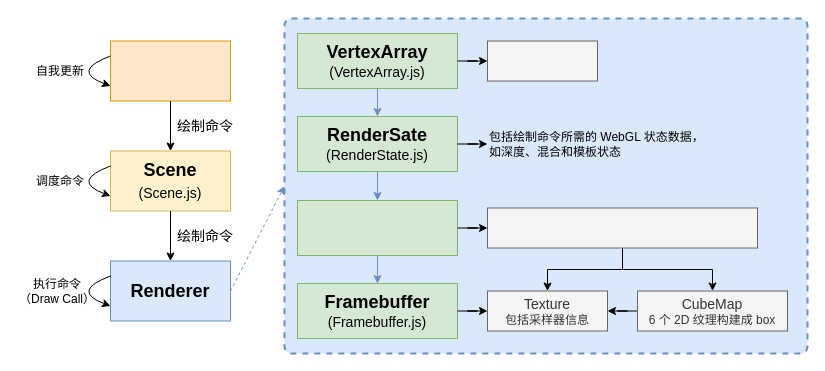
The diagram is 825 pixels wide and 371 high, and some of its shapes have lost their labels. Here are the shapes that lost their labels. From the top down, the centre of each, then its label:
At [170,70]: "Primitives".
At [542,60]: "Buffer 顶点或索引的缓存".
At [377,228]: "ShaderProgram (ShaderProgram.js)".
At [622,227]: "Uniform 所有 uniform 的类型".
